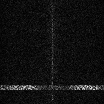wifi: (1, 84, 104, 90)
